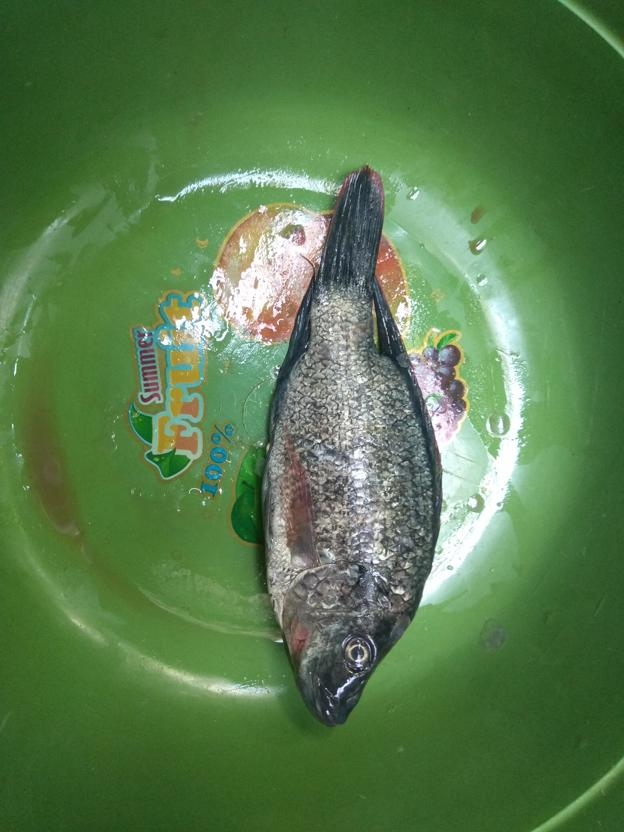Fish head: (279, 565, 420, 730)
Fish tail: (313, 164, 386, 293)
